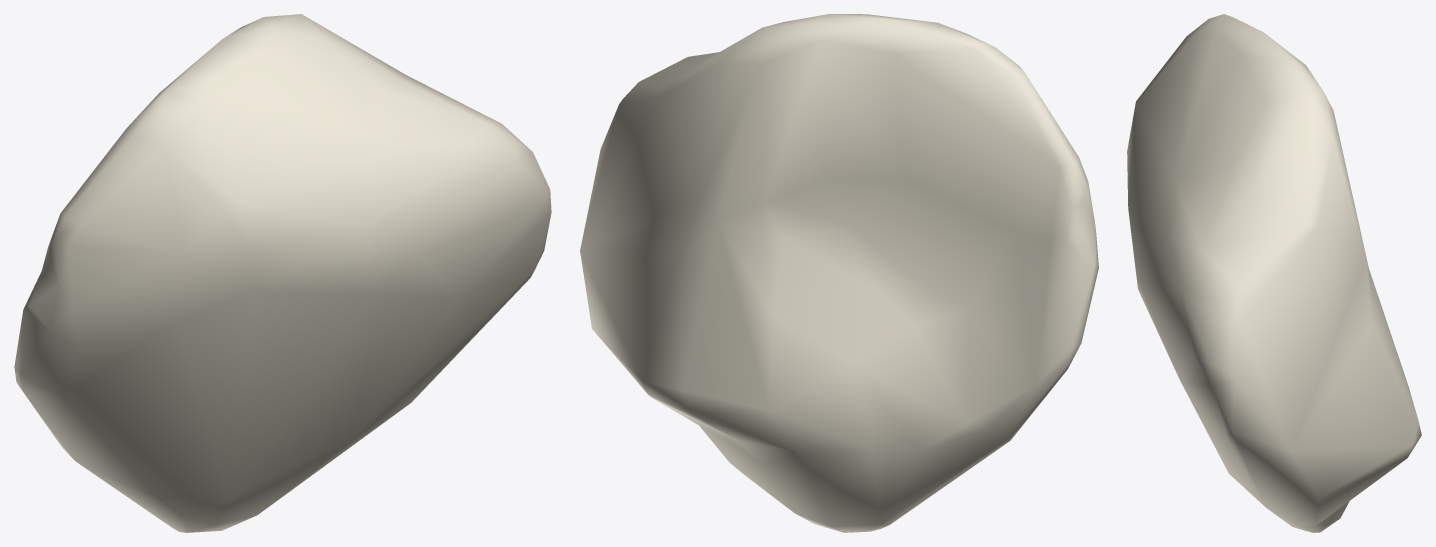
3 views of the same model, side by side, from view 1: azimuth 30°, elevation 25°; view 2: azimuth 150°, elevation 25°; view 3: azimuth 270°, elevation 25° (orthographic). The views are drawn at different scales.
Visible parts, largest first — view 1: ZA_b938e8231daf0290; view 2: ZA_b938e8231daf0290; view 3: ZA_b938e8231daf0290.
Boxes of the visible parts, x1,y1,x2,y2 form: ZA_b938e8231daf0290: [14, 14, 551, 532]; ZA_b938e8231daf0290: [580, 14, 1098, 532]; ZA_b938e8231daf0290: [1127, 14, 1421, 532].
Size of the model in its own units: 0.0432 by 0.0409 by 0.0228.
